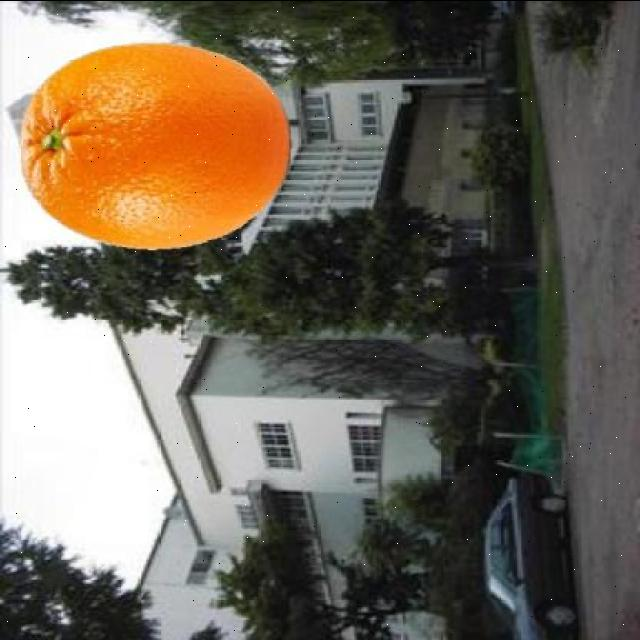Orange: (17, 42, 291, 250)
